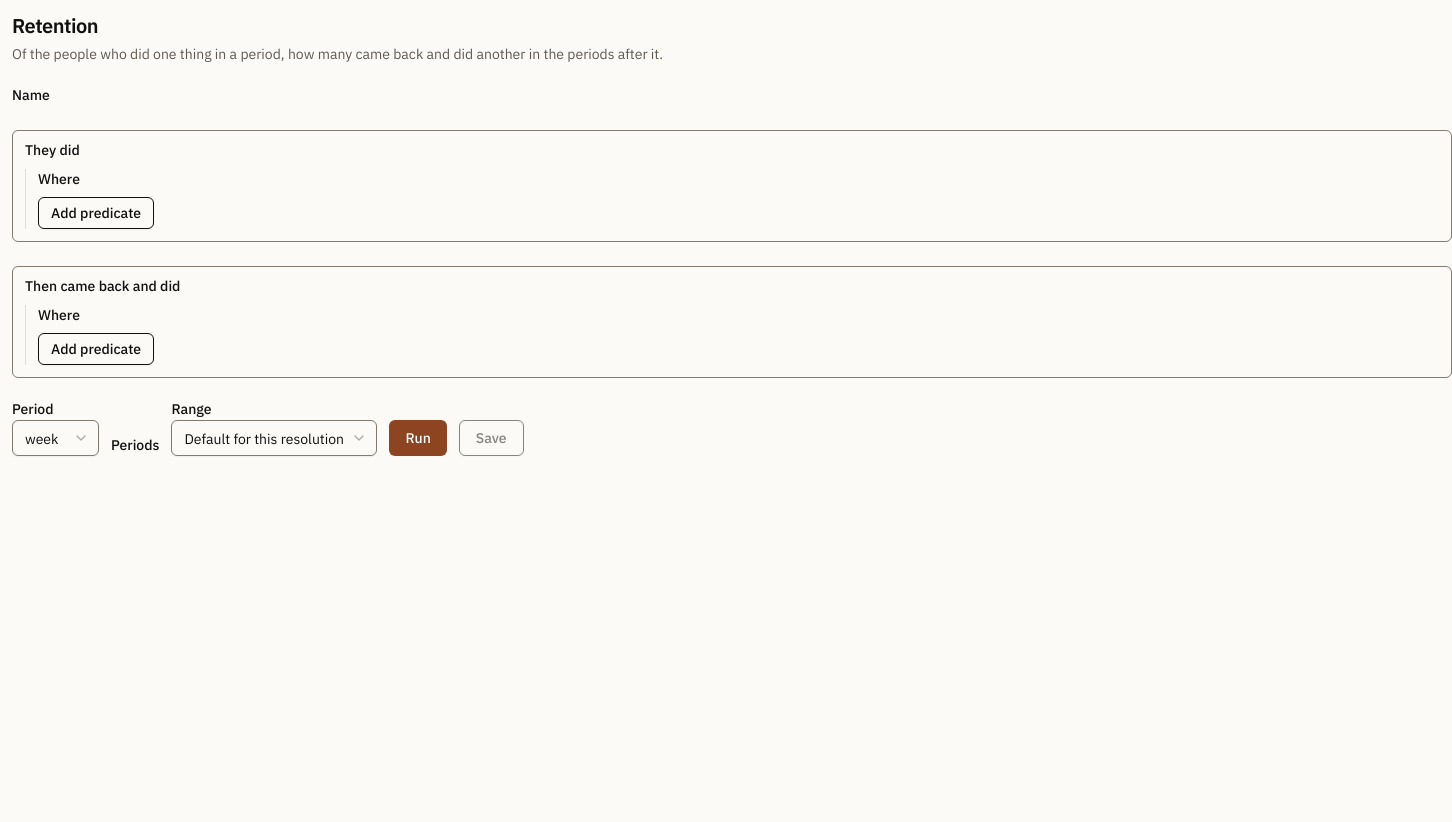
Scenario: Retention › surfaces a warning the server attached to an otherwise good grid
Click the button "Run" at coordinates (418, 438), box x1=389 y1=420 x2=447 y2=456
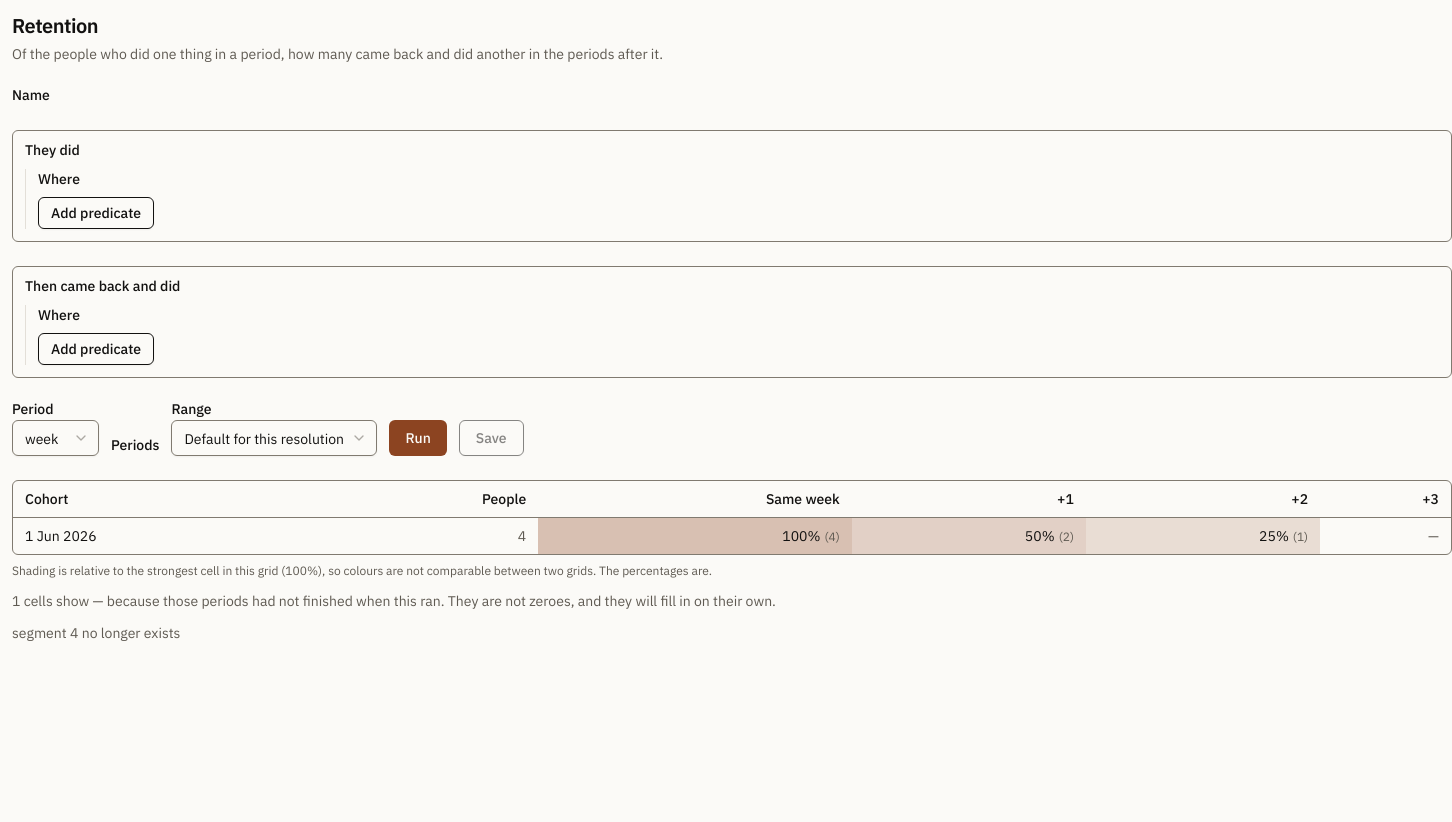
Expected: the text "segment 4 no longer exists" is shown, x1=12 y1=624 x2=180 y2=642
